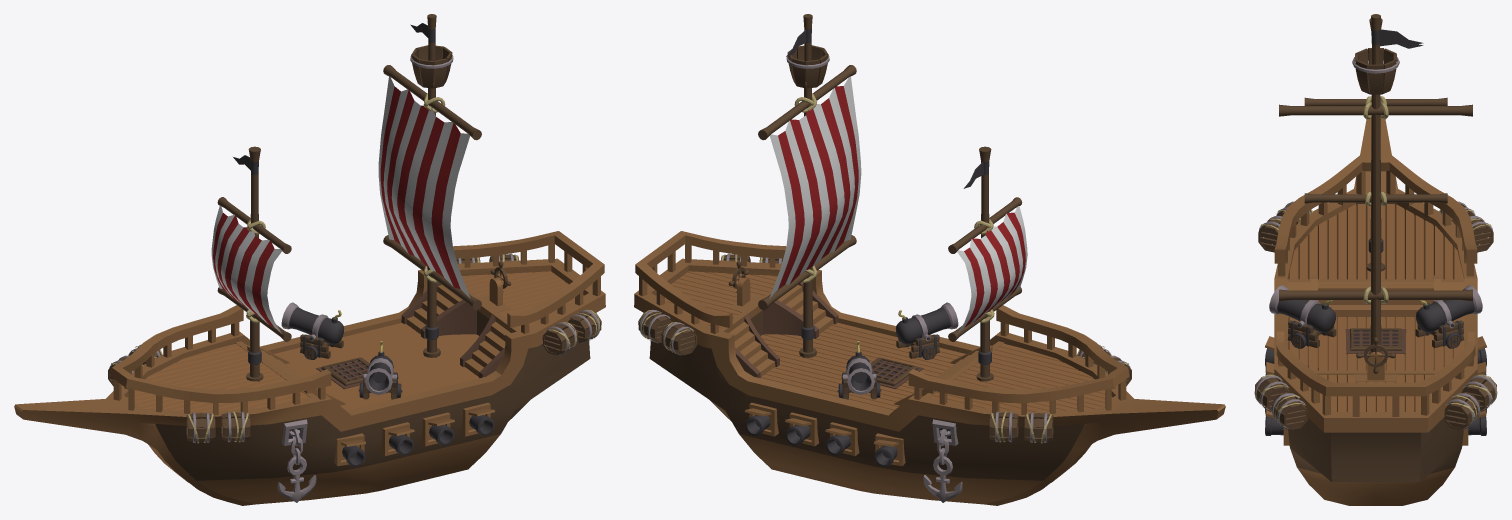
Rendered from ship.glb.
3 renders of one model, left to right at view 1: azimuth 30°, elevation 25°; view 2: azimuth 150°, elevation 25°; view 3: azimuth 270°, elevation 25°, orthographic. The views are drawn at different scales.
Visible parts, largest first — view 1: Ship_Large; view 2: Ship_Large; view 3: Ship_Large.
Part boxes in pixels (box(x1,y1,x2,y2)): Ship_Large: box(14, 14, 605, 505); Ship_Large: box(634, 14, 1225, 505); Ship_Large: box(1254, 14, 1497, 505).
Bounding box in the file's own units: 15.43 × 11.48 × 5.3.
Materials: 1 (1 with a texture image).
